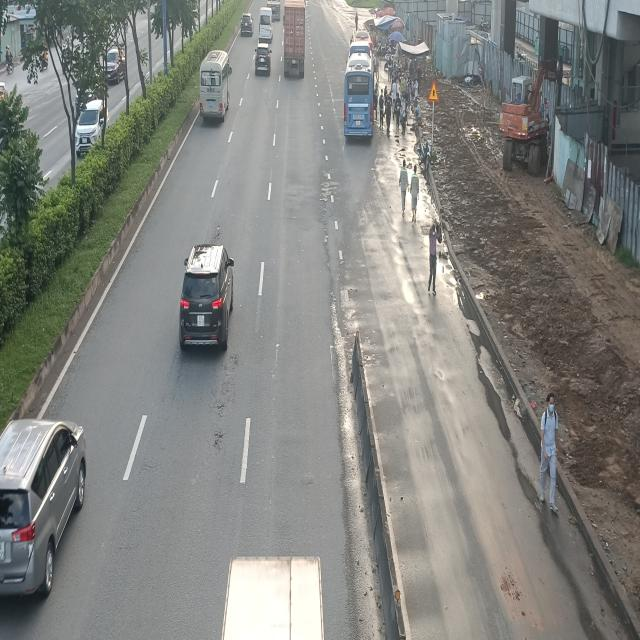car: (0, 414, 86, 596), (178, 245, 236, 352), (254, 42, 271, 76), (240, 13, 254, 37)
coach: (343, 43, 375, 144), (199, 46, 233, 120)
container: (283, 1, 307, 78)
van: (258, 6, 272, 43)
